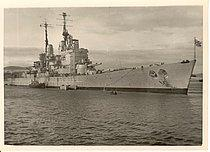Ship: (5, 22, 200, 96)
